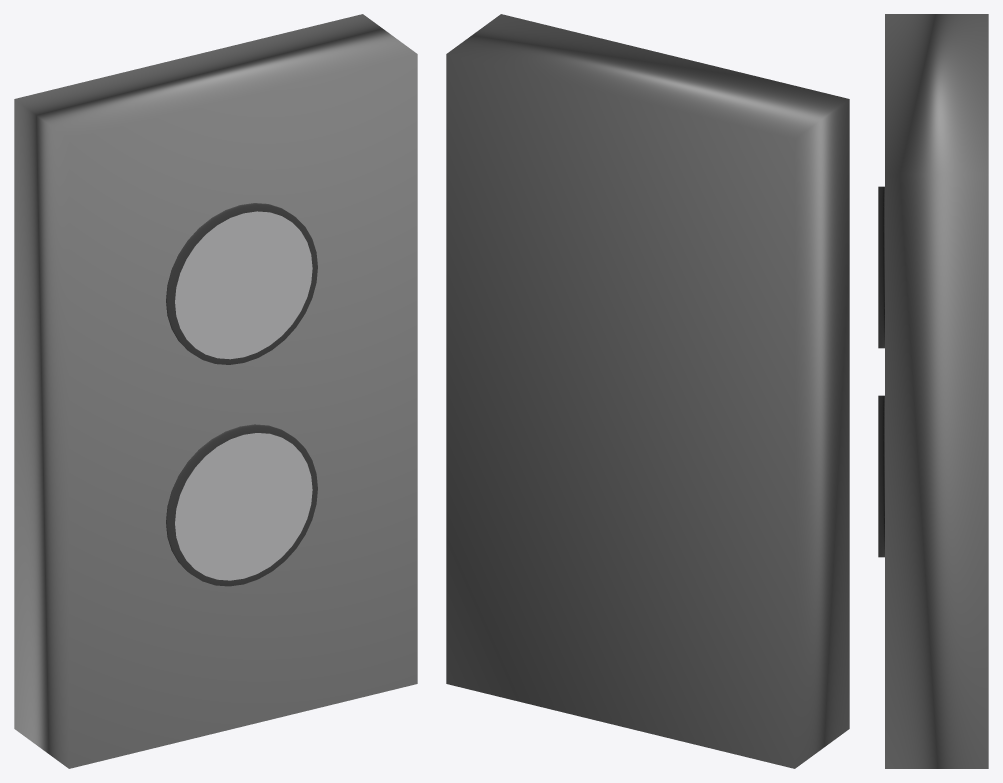
Rendered from buttons.glb.
3 views of the same model, side by side, from view 1: azimuth 30°, elevation 25°; view 2: azimuth 150°, elevation 25°; view 3: azimuth 270°, elevation 25° (orthographic). The views are drawn at different scales.
Parts seen in each view (by area): view 1: Cube.029, Cylinder.025, Cylinder.026; view 2: Cube.029; view 3: Cube.029, Cylinder.026, Cylinder.025.
Boxes of the visible parts, x1=… form: Cube.029: x1=14, y1=14, x2=417, y2=768; Cylinder.025: x1=166, y1=424, x2=317, y2=586; Cylinder.026: x1=166, y1=203, x2=317, y2=364; Cube.029: x1=446, y1=14, x2=849, y2=768; Cube.029: x1=885, y1=14, x2=988, y2=768; Cylinder.026: x1=878, y1=186, x2=884, y2=348; Cylinder.025: x1=878, y1=395, x2=884, y2=557.
Bounding box in the file's own units: 0.163 × 0.2813 × 0.0473.
1 material, 1 textured.
